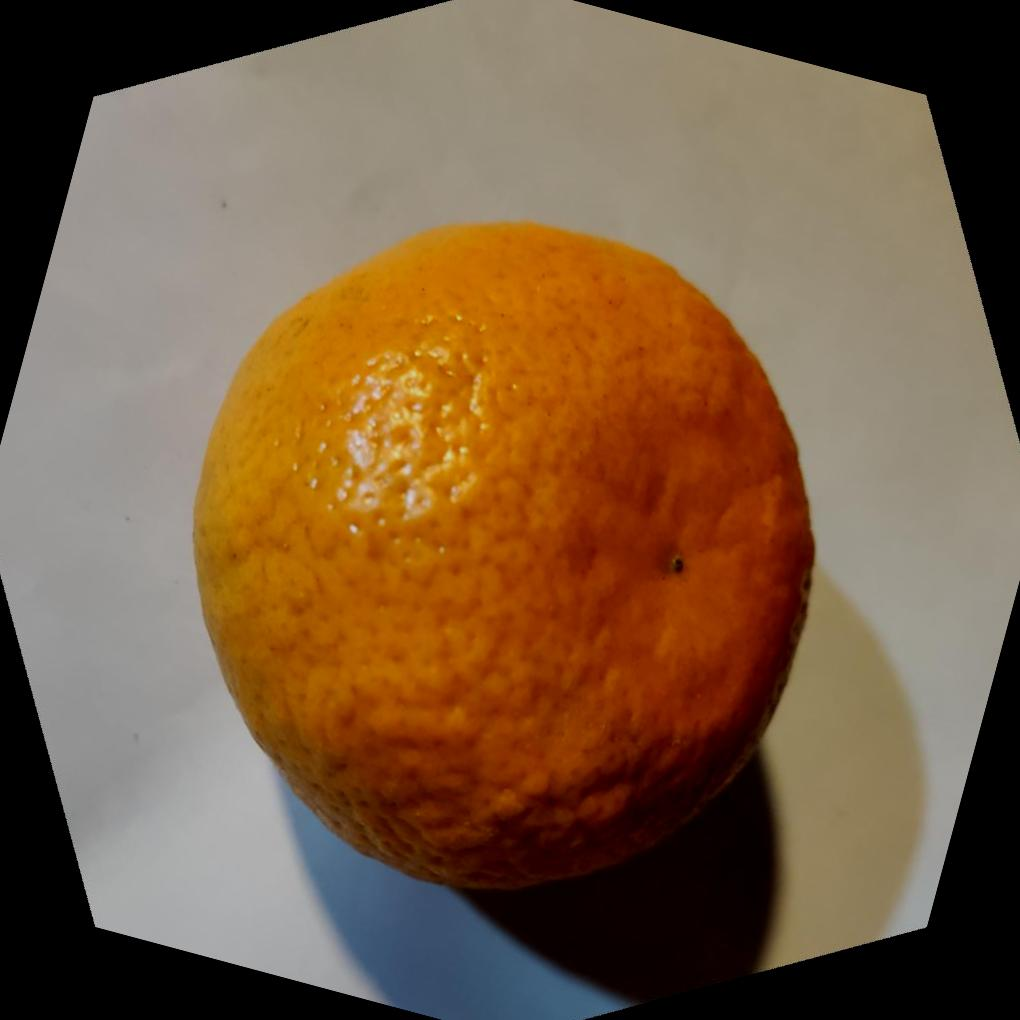FreshGuava: (192, 221, 818, 893)
